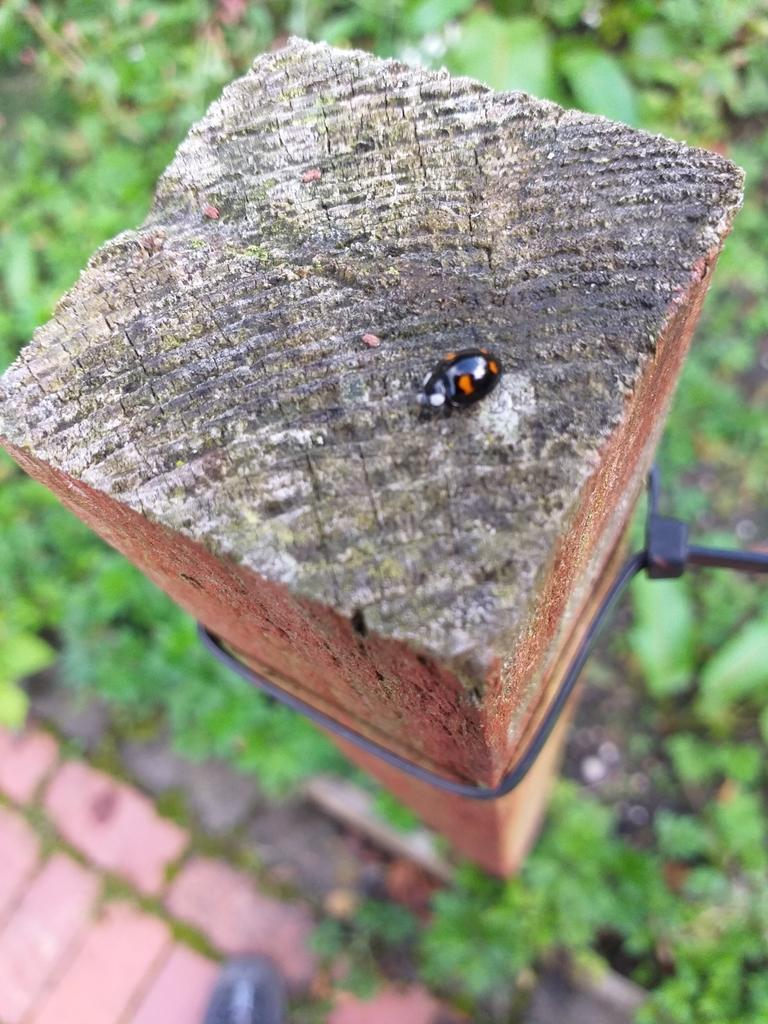ladybug: (414, 346, 509, 429)
